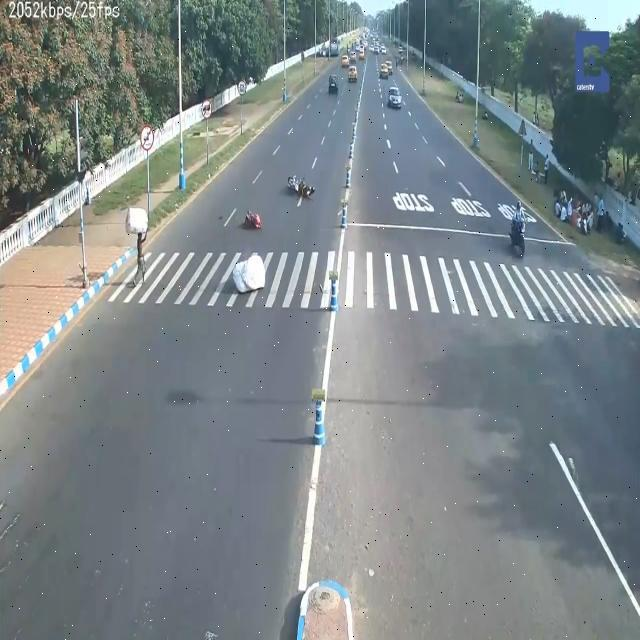accident: (237, 199, 270, 240), (285, 166, 317, 206)
